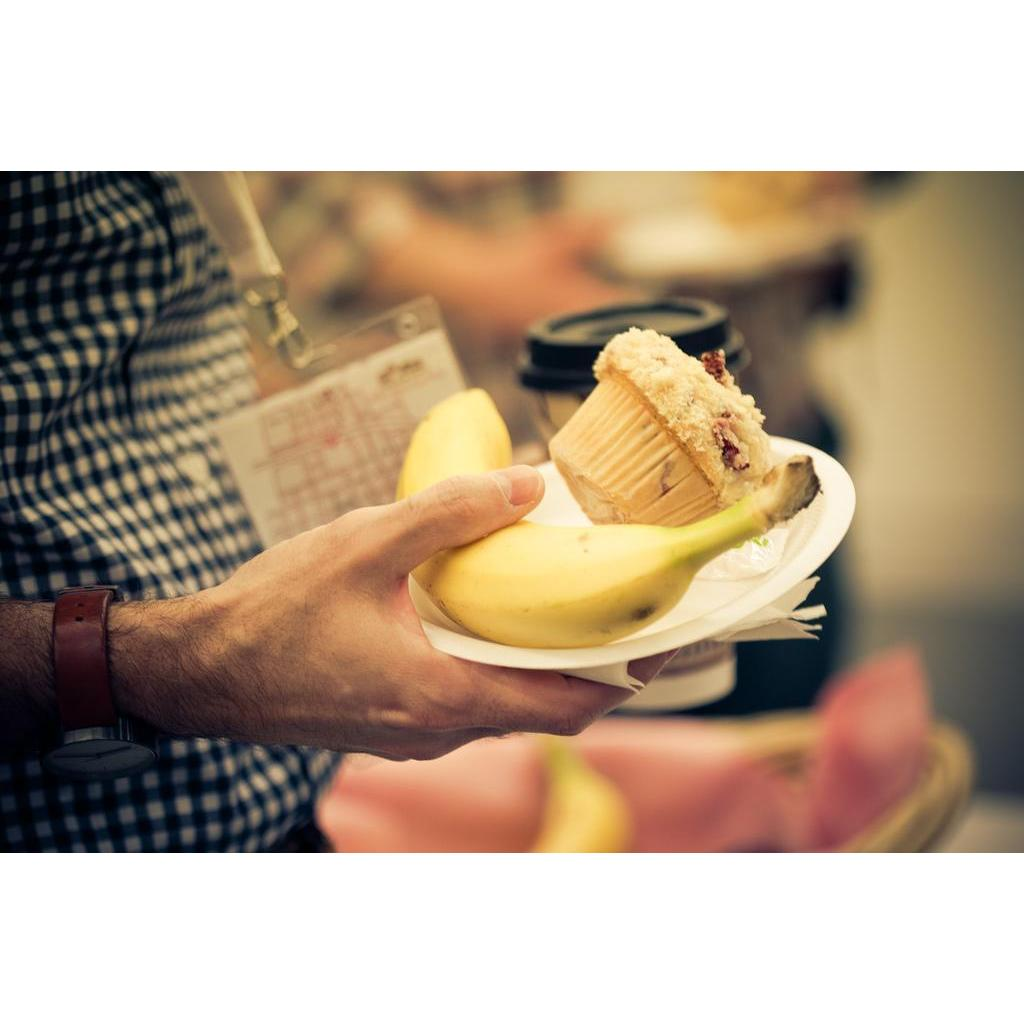banana: (411, 469, 814, 652)
